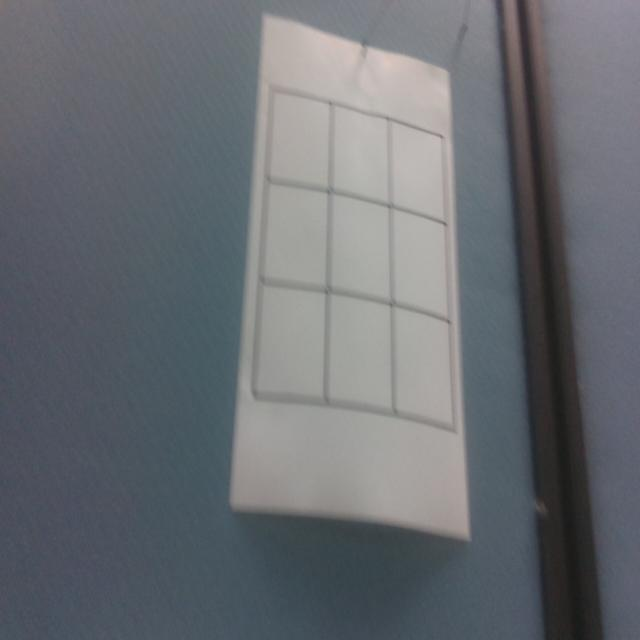null: (254, 280, 328, 404), (323, 302, 394, 417), (262, 180, 329, 289), (331, 193, 393, 302), (395, 309, 452, 427), (391, 118, 447, 223), (332, 104, 390, 204), (270, 91, 328, 186), (392, 212, 450, 306)
table: (255, 79, 455, 440)
